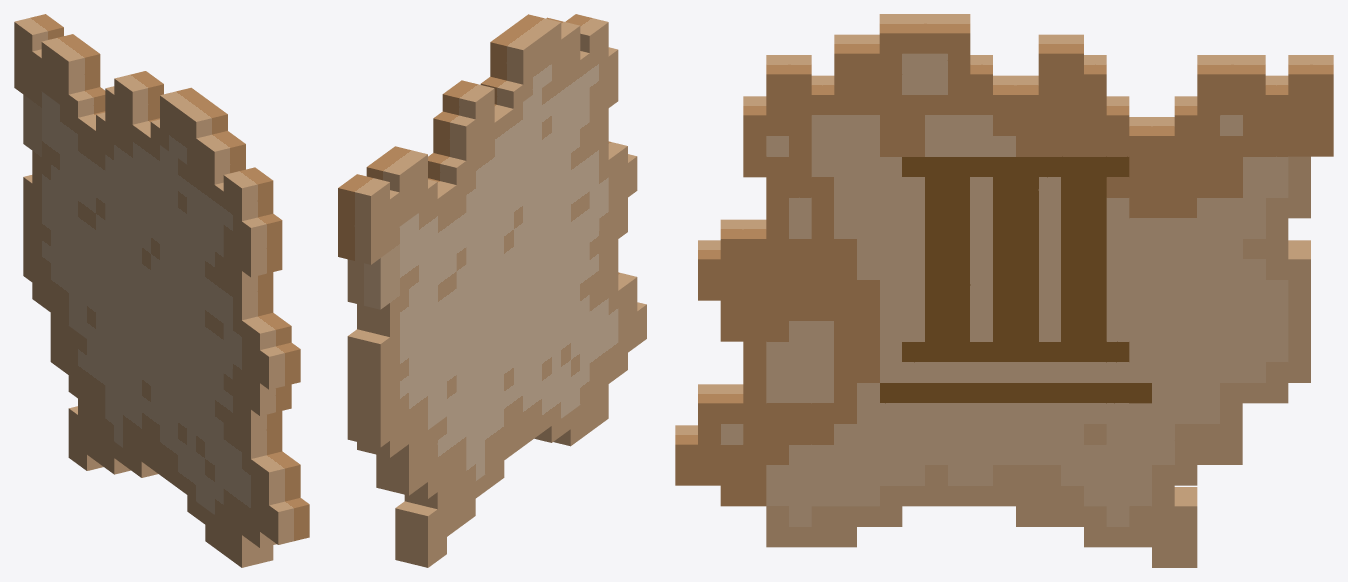
File: item_foundersmappiece3.gltf
3 renders of one model, left to right at view 1: azimuth 30°, elevation 25°; view 2: azimuth 150°, elevation 25°; view 3: azimuth 270°, elevation 25°, orthographic. The views are drawn at different scales.
Visible parts, largest first — view 1: item_mappiece-Local; view 2: item_mappiece-Local; view 3: item_mappiece-Local.
Part boxes in pixels (x1,y1,x2,y2): item_mappiece-Local: [14, 14, 309, 567]; item_mappiece-Local: [338, 14, 646, 567]; item_mappiece-Local: [675, 14, 1333, 567].
Size of the model in its own units: 2 by 26 by 29.
Materials: 1 (1 with a texture image).
